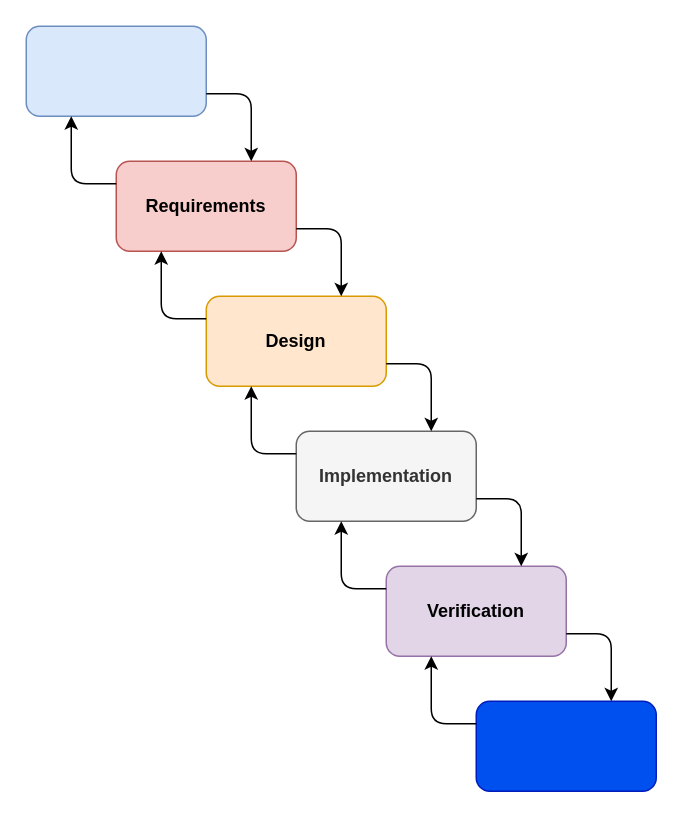
The diagram is 683 pixels wide and 818 high, and some of its shapes have lost their labels. The shapes that lost their labels are listed below. From the top down, each one's box as (x1, y1, x2, y2) in pixels, then its label:
(25, 25, 206, 116): Identify
(475, 700, 656, 791): Maintenance
